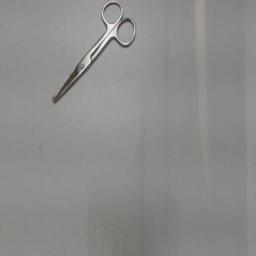Dressing Scissors: (46, 0, 142, 112)
